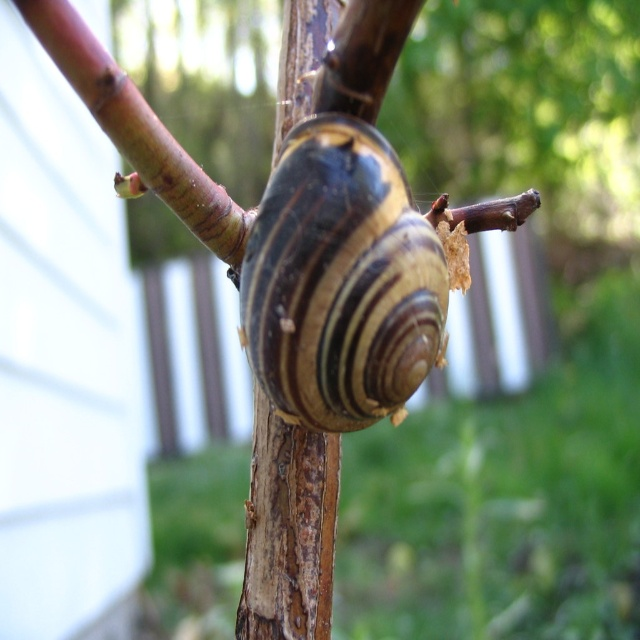Snail: (226, 99, 492, 448)
